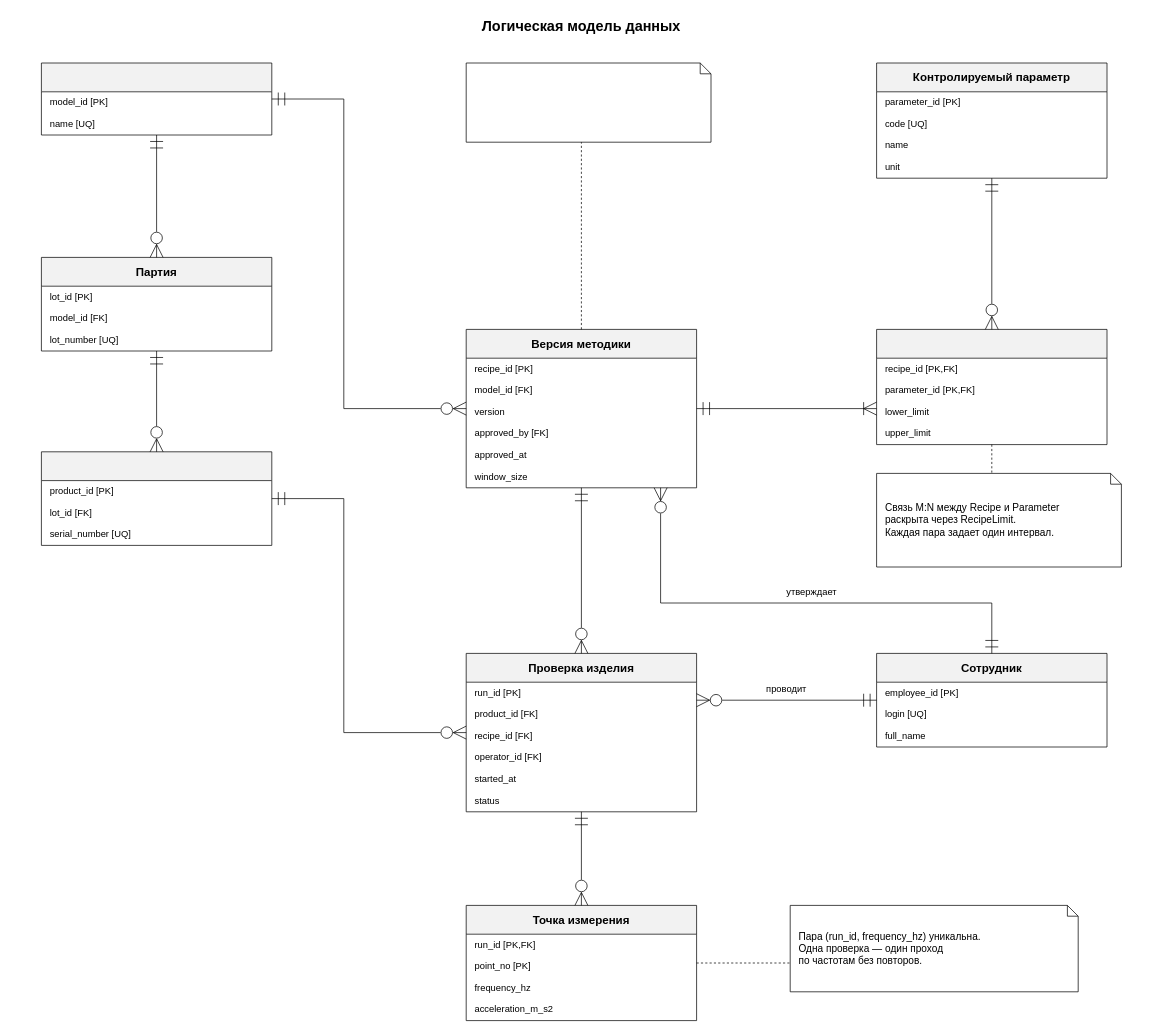
This 1162x1033 diagram has some shape labels left out. Here are the shapes that lost their labels. From the top down, the box of each, then its label:
(41, 62, 272, 135): Модель изделия
(465, 62, 711, 142): Пара (model_id, version) уникальна. Утвержденная версия не изменяется.
(876, 329, 1107, 445): Допуск параметра
(41, 451, 272, 545): Изделие
